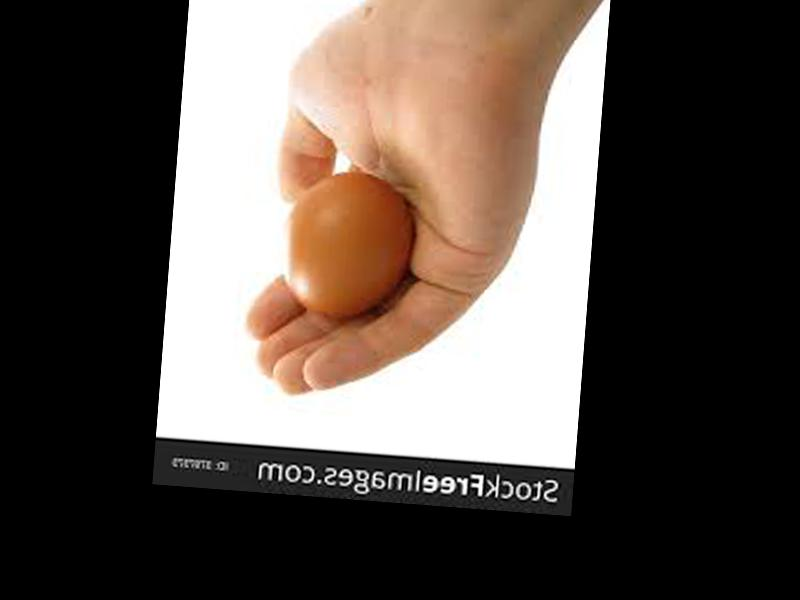Eggs: (279, 166, 414, 332)
